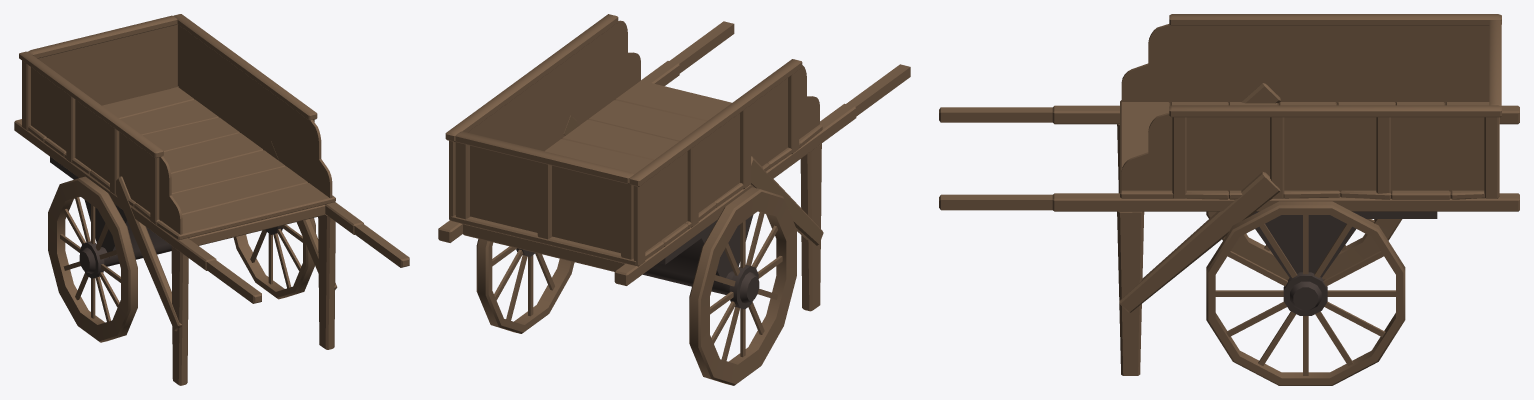
The model's file is car_10.glb.
3 renders of one model, left to right at view 1: azimuth 30°, elevation 25°; view 2: azimuth 150°, elevation 25°; view 3: azimuth 270°, elevation 25°, orthographic. The views are drawn at different scales.
Parts seen in each view (by area): view 1: car_10; view 2: car_10; view 3: car_10.
Part boxes in pixels (box(x1,y1,x2,y2)): car_10: box(14, 14, 409, 385); car_10: box(438, 14, 910, 385); car_10: box(939, 14, 1519, 385).
Size of the model in its own units: 1.17 by 1.27 by 2.49.
Materials: 1 (1 with a texture image).
